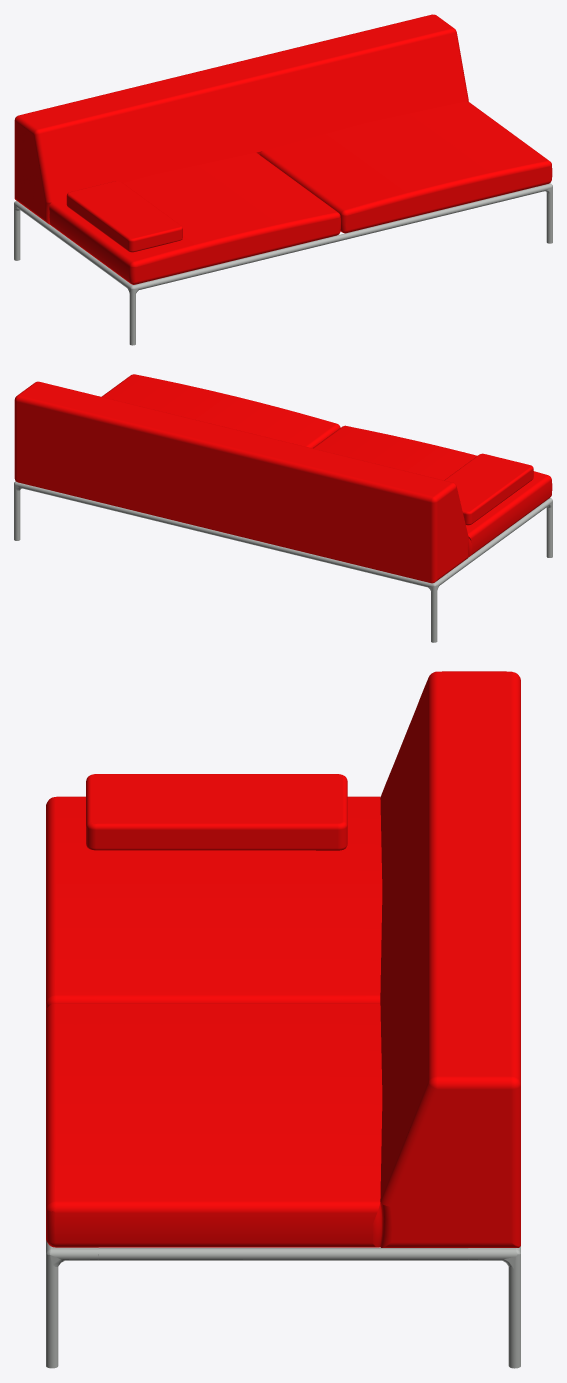
Rendered from Furniture_Sofas-Armchairs_Modus-Furniture_South-Bench-w-LH-Fixed-Cushion.fbx.
3 renders of one model, top to bottom at view 1: azimuth 30°, elevation 25°; view 2: azimuth 150°, elevation 25°; view 3: azimuth 270°, elevation 25°, orthographic. The views are drawn at different scales.
Parts seen in each view (by area): view 1: L_0e932174_fda2_4e8e_ac00_77903fe7bdd8_I2, L_616d5a97_0fd9_4086_9f4e_8d9e6bf2a357_I7, L_c3d4a7c4_6f9f_43de_8392_781ffa171125_I11, L_09cda1a2_bc4e_4dd2_87d7_2364ec0188ea_I1, L_26024f08_7569_4f04_aa24_f29b64234875_I4, L_7dea3c93_bddc_4815_b209_355f906221ae_I9, L_2bc50f10_7494_4fb6_9654_5af4526c71f1_I5, L_707ac127_4ac3_4792_87ce_166a2a9643bc_I8, L_25c2886b_af2c_4022_b936_b0ba291a681d_I3; view 2: L_0e932174_fda2_4e8e_ac00_77903fe7bdd8_I2, L_c3d4a7c4_6f9f_43de_8392_781ffa171125_I11, L_616d5a97_0fd9_4086_9f4e_8d9e6bf2a357_I7, L_09cda1a2_bc4e_4dd2_87d7_2364ec0188ea_I1, L_cbcd00cb_c2c2_4a3e_9354_1c16a3544858_I12, L_7dea3c93_bddc_4815_b209_355f906221ae_I9, L_25c2886b_af2c_4022_b936_b0ba291a681d_I3, L_373de0fc_59a1_44c0_9842_c178b431e5a1_I6, L_2bc50f10_7494_4fb6_9654_5af4526c71f1_I5; view 3: L_616d5a97_0fd9_4086_9f4e_8d9e6bf2a357_I7, L_0e932174_fda2_4e8e_ac00_77903fe7bdd8_I2, L_c3d4a7c4_6f9f_43de_8392_781ffa171125_I11, L_09cda1a2_bc4e_4dd2_87d7_2364ec0188ea_I1, L_b9d7a70c_1421_47f0_8439_c020186d64b6_I10, L_707ac127_4ac3_4792_87ce_166a2a9643bc_I8, L_373de0fc_59a1_44c0_9842_c178b431e5a1_I6.
Boxes of the visible parts, left/top/right/bottom form: L_0e932174_fda2_4e8e_ac00_77903fe7bdd8_I2: left=14, top=14, right=468, bottom=224; L_616d5a97_0fd9_4086_9f4e_8d9e6bf2a357_I7: left=259, top=101, right=552, bottom=233; L_c3d4a7c4_6f9f_43de_8392_781ffa171125_I11: left=49, top=152, right=340, bottom=284; L_09cda1a2_bc4e_4dd2_87d7_2364ec0188ea_I1: left=66, top=181, right=182, bottom=252; L_26024f08_7569_4f04_aa24_f29b64234875_I4: left=153, top=188, right=531, bottom=286; L_7dea3c93_bddc_4815_b209_355f906221ae_I9: left=26, top=209, right=120, bottom=281; L_2bc50f10_7494_4fb6_9654_5af4526c71f1_I5: left=118, top=277, right=154, bottom=345; L_707ac127_4ac3_4792_87ce_166a2a9643bc_I8: left=529, top=183, right=552, bottom=243; L_25c2886b_af2c_4022_b936_b0ba291a681d_I3: left=14, top=201, right=28, bottom=260; L_0e932174_fda2_4e8e_ac00_77903fe7bdd8_I2: left=14, top=381, right=468, bottom=583; L_c3d4a7c4_6f9f_43de_8392_781ffa171125_I11: left=313, top=425, right=552, bottom=557; L_616d5a97_0fd9_4086_9f4e_8d9e6bf2a357_I7: left=101, top=374, right=340, bottom=448; L_09cda1a2_bc4e_4dd2_87d7_2364ec0188ea_I1: left=444, top=453, right=533, bottom=525; L_cbcd00cb_c2c2_4a3e_9354_1c16a3544858_I12: left=35, top=487, right=412, bottom=583; L_7dea3c93_bddc_4815_b209_355f906221ae_I9: left=446, top=507, right=540, bottom=578; L_25c2886b_af2c_4022_b936_b0ba291a681d_I3: left=412, top=574, right=448, bottom=642; L_373de0fc_59a1_44c0_9842_c178b431e5a1_I6: left=14, top=481, right=36, bottom=540; L_2bc50f10_7494_4fb6_9654_5af4526c71f1_I5: left=538, top=498, right=552, bottom=557; L_616d5a97_0fd9_4086_9f4e_8d9e6bf2a357_I7: left=46, top=1003, right=382, bottom=1247; L_0e932174_fda2_4e8e_ac00_77903fe7bdd8_I2: left=380, top=671, right=520, bottom=1247; L_c3d4a7c4_6f9f_43de_8392_781ffa171125_I11: left=46, top=796, right=382, bottom=1010; L_09cda1a2_bc4e_4dd2_87d7_2364ec0188ea_I1: left=86, top=774, right=347, bottom=850; L_b9d7a70c_1421_47f0_8439_c020186d64b6_I10: left=98, top=1248, right=468, bottom=1260; L_707ac127_4ac3_4792_87ce_166a2a9643bc_I8: left=46, top=1240, right=98, bottom=1368; L_373de0fc_59a1_44c0_9842_c178b431e5a1_I6: left=468, top=1246, right=520, bottom=1368.
Bounding box in the file's own units: 1940 × 945 × 632.
